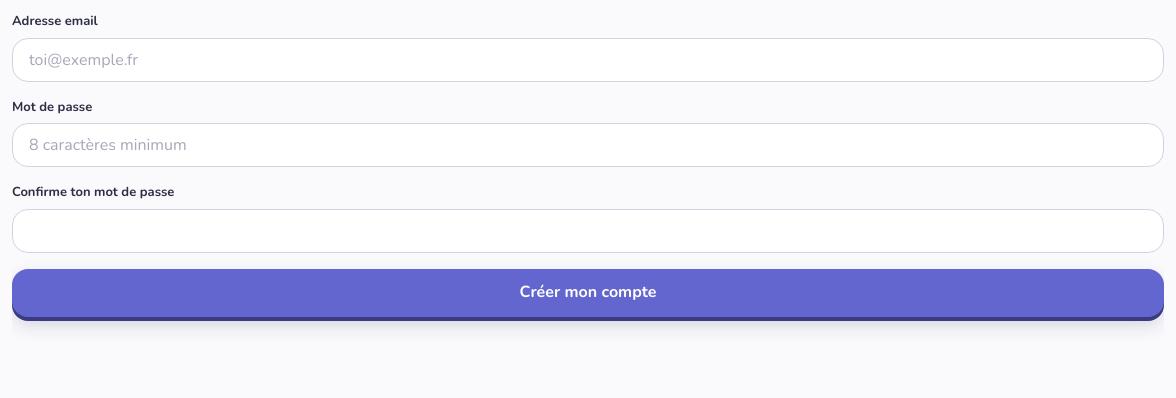
Test: AuthForm - inscription : validation › affiche des erreurs reliées aux champs et n'appelle pas Supabase
Step 1. Type "pas-un-email" into the field labelled "Adresse email" → (588, 60), box x1=12 y1=38 x2=1164 y2=82
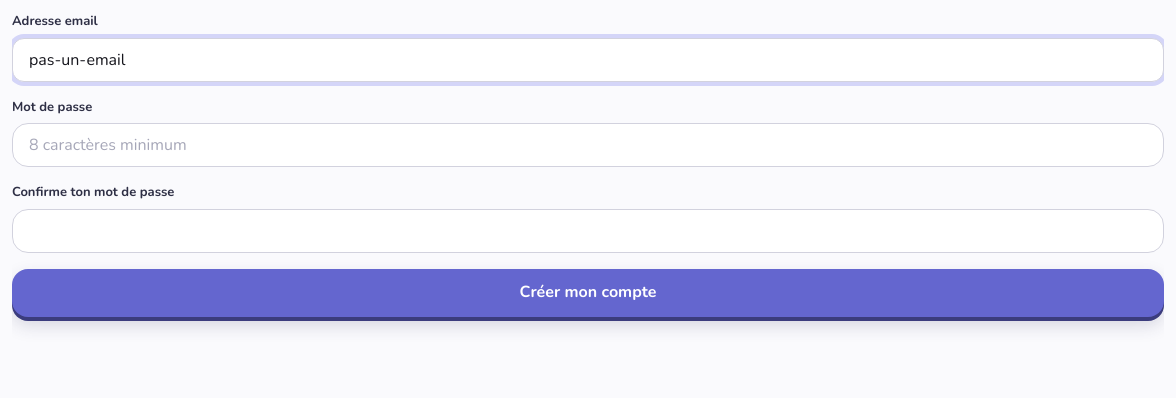
Step 2. Type "court" into the password field labelled "Mot de passe" → (588, 145), box x1=12 y1=123 x2=1164 y2=167
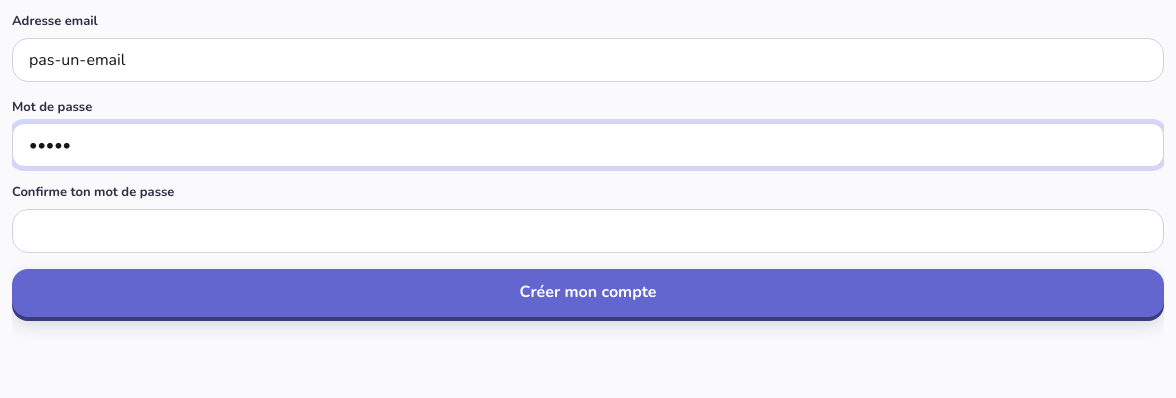
Step 3. Type "court" into the password field labelled "Confirme ton mot de passe" → (588, 230), box x1=12 y1=208 x2=1164 y2=252
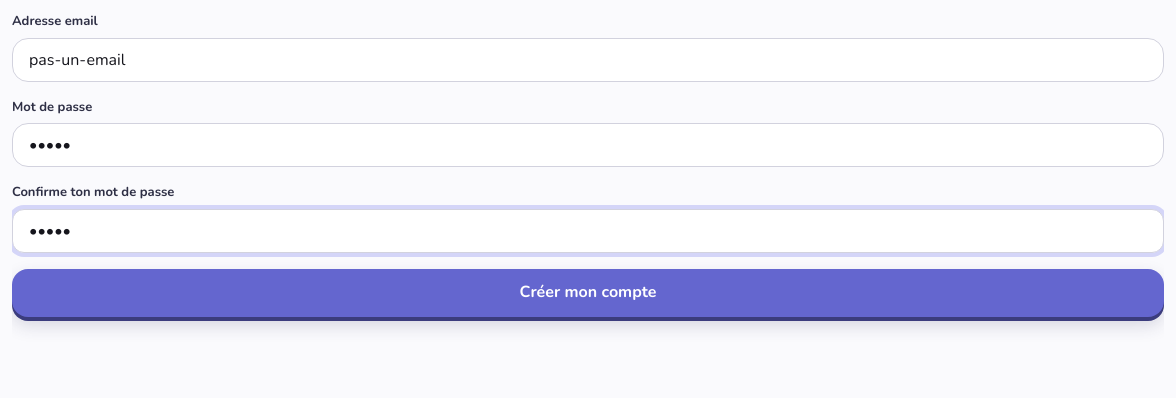
Step 4. Click the button "Créer mon compte" → (588, 292), box x1=12 y1=268 x2=1164 y2=316
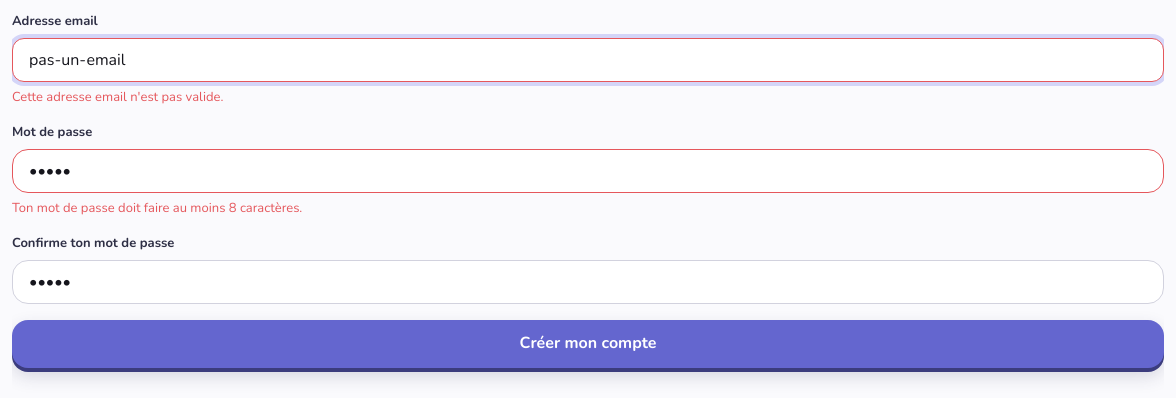
Now the text "Ton mot de passe doit faire au moins 8 caractères." is shown, box x1=12 y1=198 x2=302 y2=216
